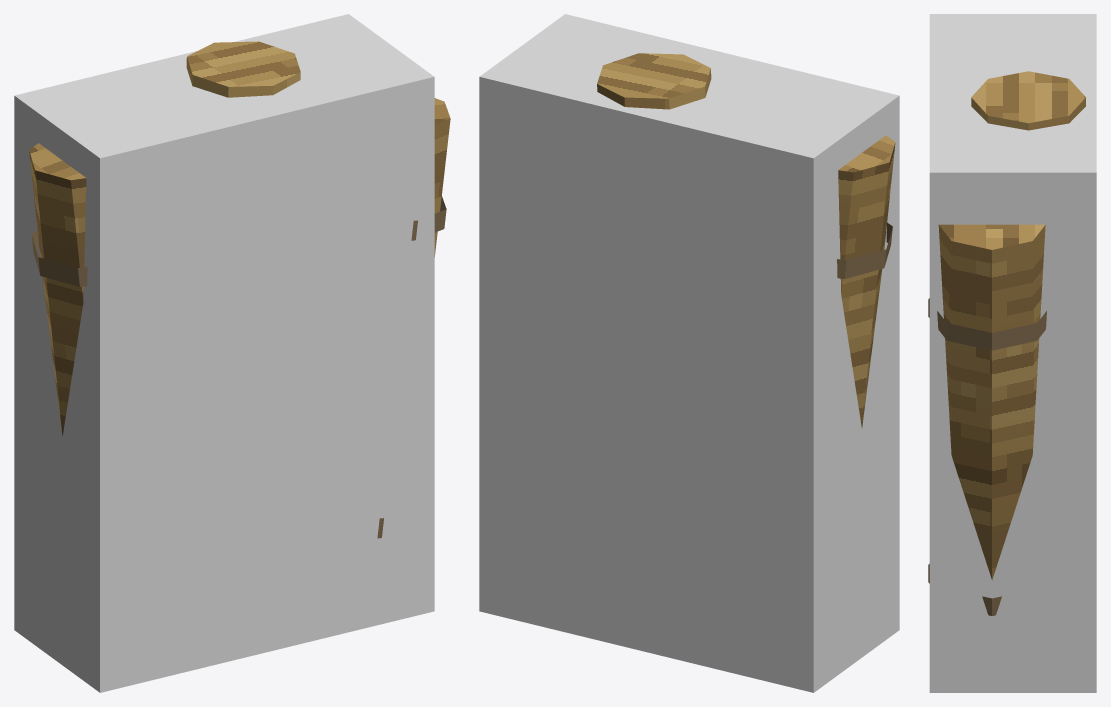
File: JP_Prop_RolledMats_A.glb
The picture shows the model from 3 angles, left to right: view 1: azimuth 30°, elevation 25°; view 2: azimuth 150°, elevation 25°; view 3: azimuth 270°, elevation 25°; orthographic projection. The views are drawn at different scales.
Parts seen in each view (by area): view 1: COL_JP_Prop_RolledMats_A, JP_Prop_RolledMats_A; view 2: COL_JP_Prop_RolledMats_A, JP_Prop_RolledMats_A; view 3: COL_JP_Prop_RolledMats_A, JP_Prop_RolledMats_A.
Boxes of the visible parts, x1,y1,x2,y2 form: COL_JP_Prop_RolledMats_A: [14, 14, 434, 692]; JP_Prop_RolledMats_A: [29, 41, 450, 538]; COL_JP_Prop_RolledMats_A: [479, 14, 899, 692]; JP_Prop_RolledMats_A: [597, 53, 895, 427]; COL_JP_Prop_RolledMats_A: [929, 14, 1096, 692]; JP_Prop_RolledMats_A: [928, 71, 1085, 615].
Size of the model in its own units: 0.8702 by 1.14 by 0.322.
Materials: 2 (2 with a texture image).
